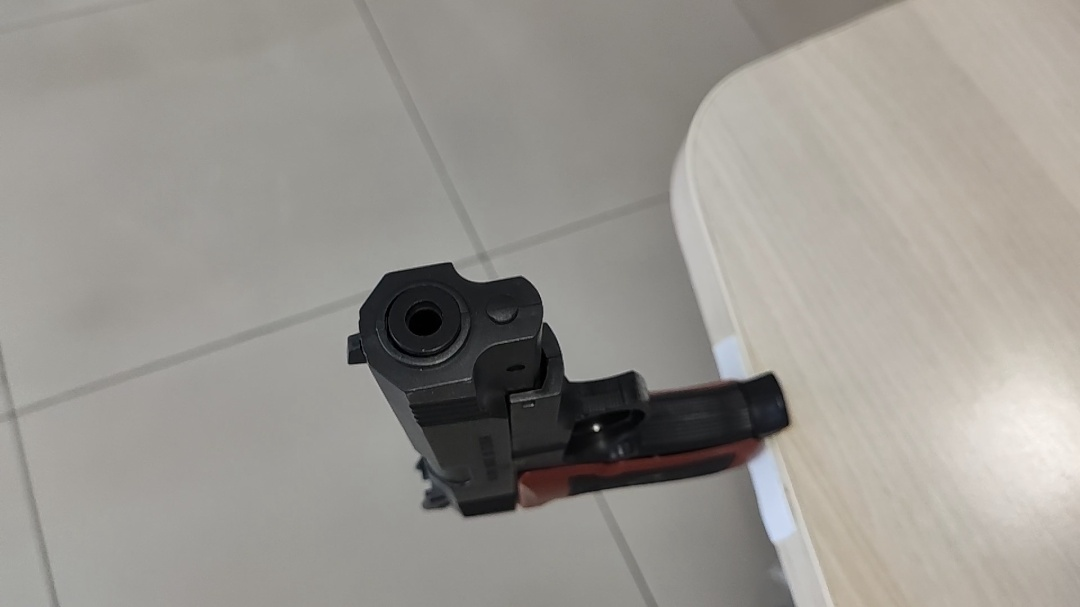gun: (363, 259, 415, 289)
